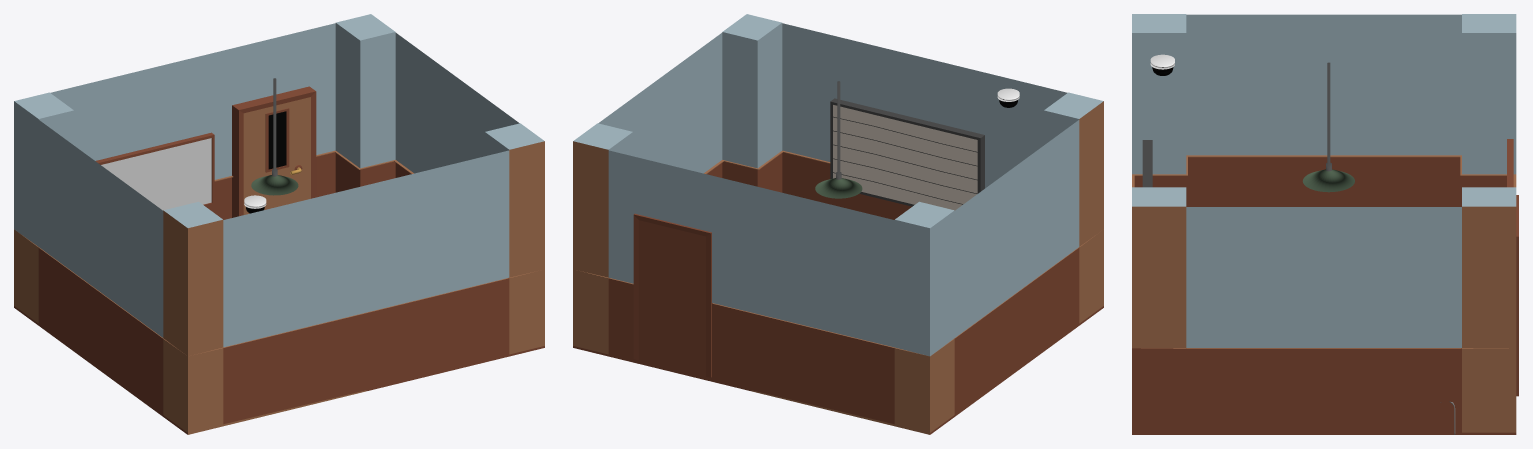
The model's file is InterrogationRoom_1.glb.
3 views of the same model, side by side, from view 1: azimuth 30°, elevation 25°; view 2: azimuth 150°, elevation 25°; view 3: azimuth 270°, elevation 25° (orthographic). The views are drawn at different scales.
Visible parts, largest first — view 1: Cube, Door, doubleGlass, hangingLight; view 2: Cube, heightmap, Door, hangingLight; view 3: Cube, hangingLight, Door, heightmap, securityCam.
Boxes of the visible parts, x1,y1,x2,y2 form: Cube: (14, 14, 544, 434); Door: (232, 86, 316, 217); doubleGlass: (95, 132, 214, 210); hangingLight: (251, 78, 298, 195); Cube: (573, 14, 1103, 434); heightmap: (830, 98, 984, 210); Door: (633, 213, 712, 377); hangingLight: (815, 81, 862, 198); Cube: (1132, 14, 1516, 434); hangingLight: (1302, 62, 1354, 192); Door: (1516, 195, 1518, 396); heightmap: (1142, 140, 1152, 187); securityCam: (1150, 54, 1174, 75).
Size of what is drawn, in the model's own units: 5.31 by 3.51 by 4.49.
3 materials, 1 textured.
